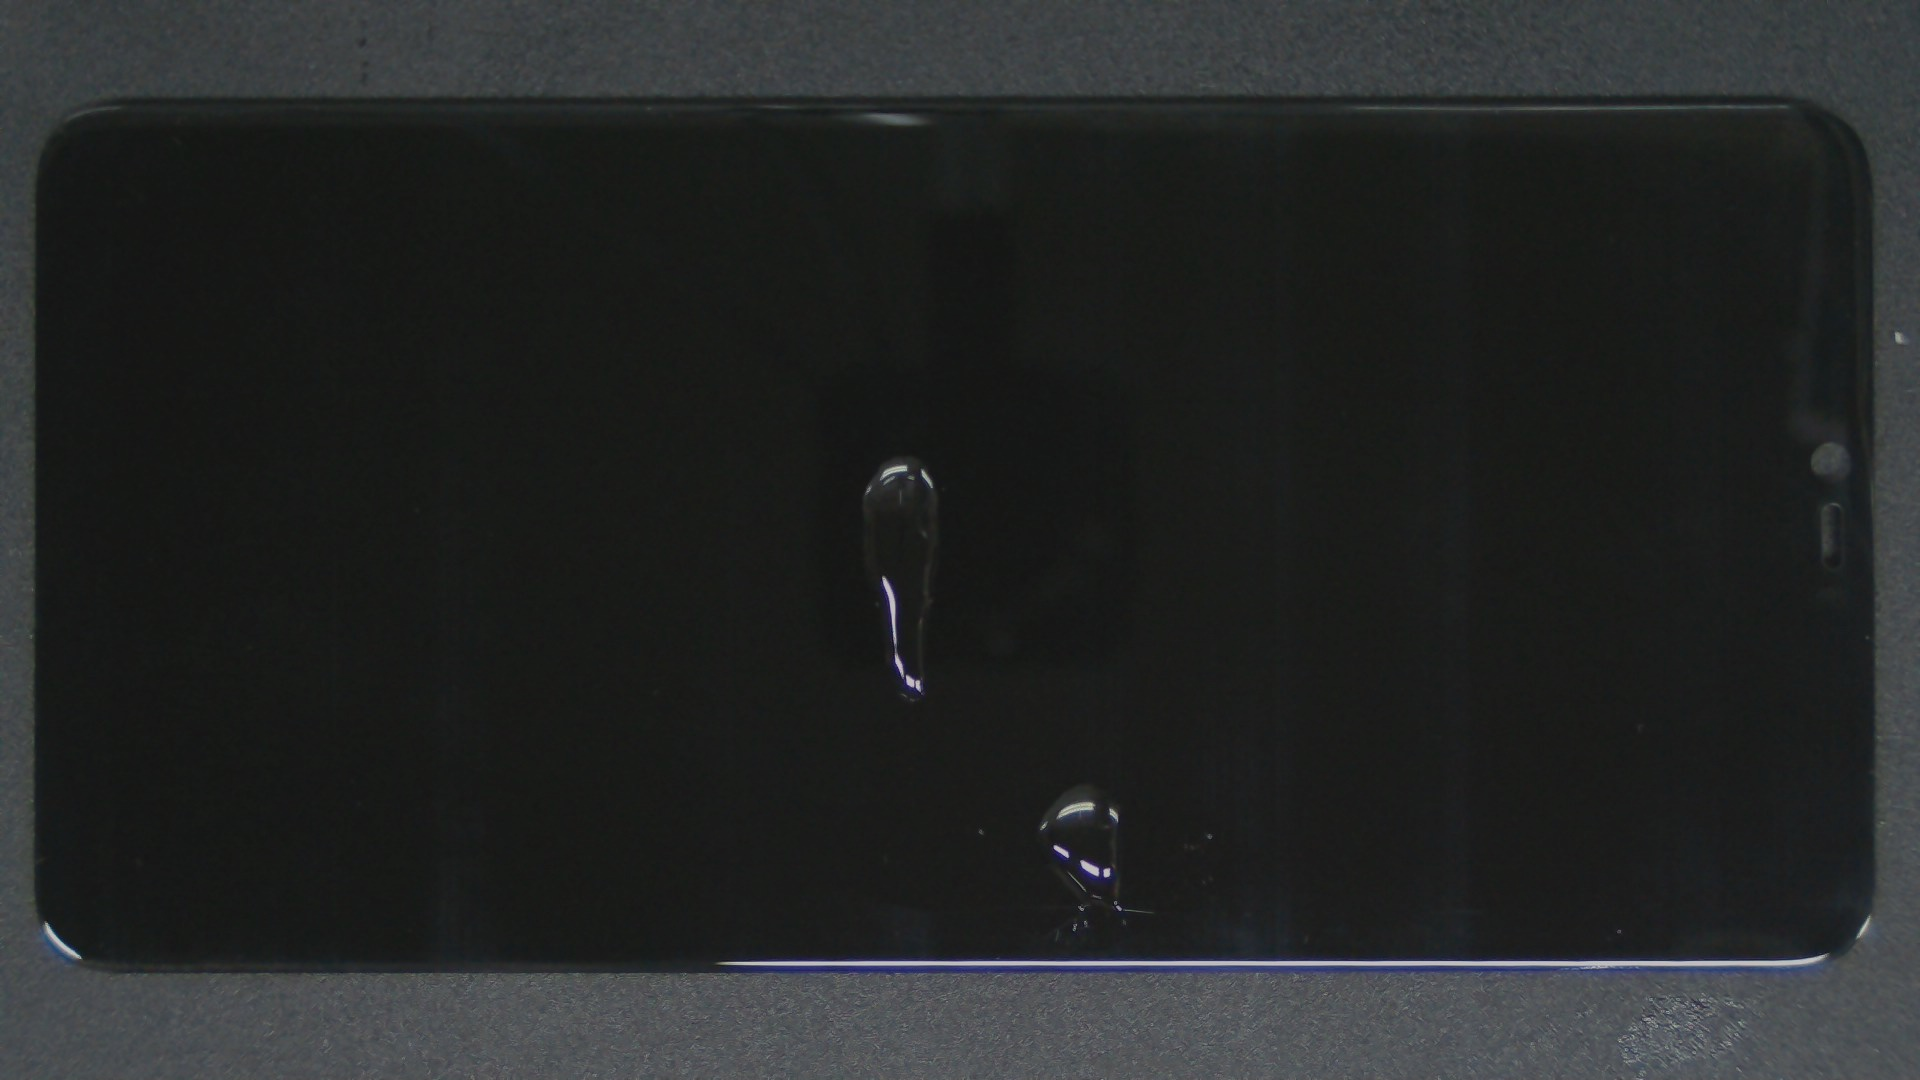oil: (550, 392, 1647, 1080), (448, 228, 1345, 684)
